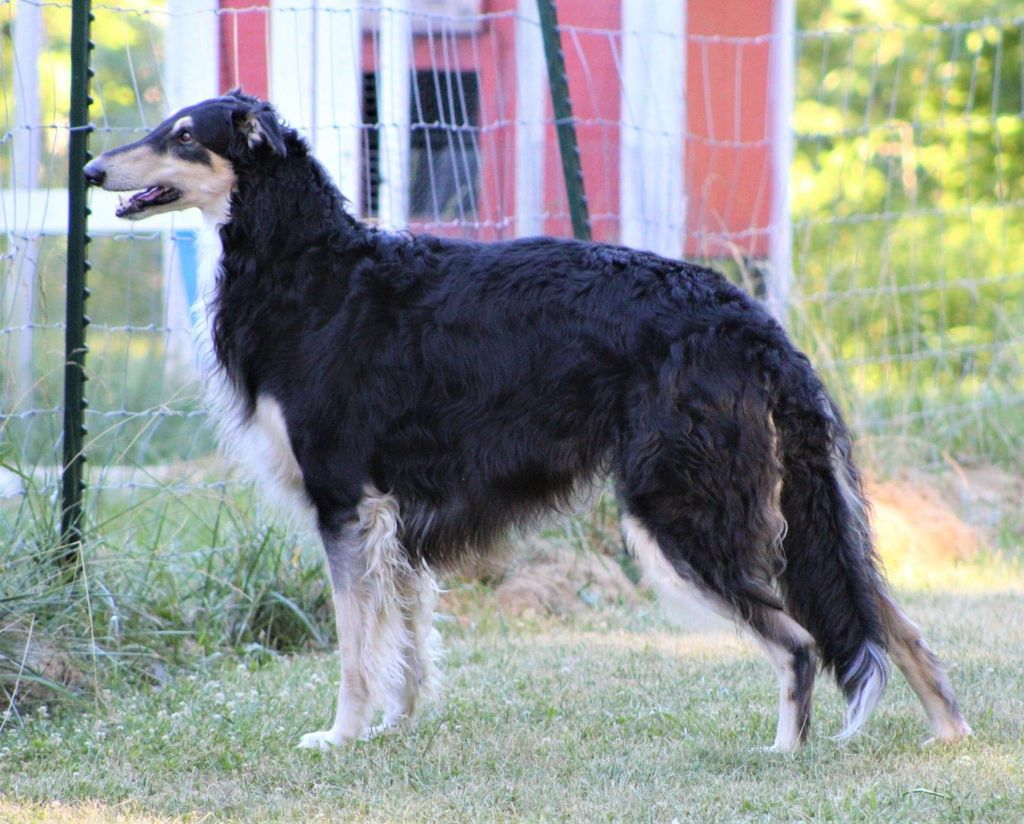borzoi: (57, 86, 1007, 764)
